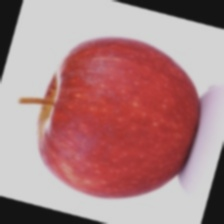apple: (8, 50, 201, 189)
